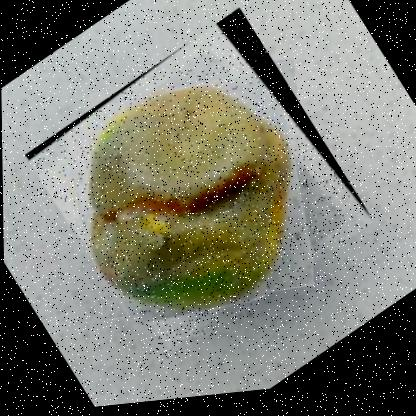orange_rotten: (21, 1, 374, 384)
